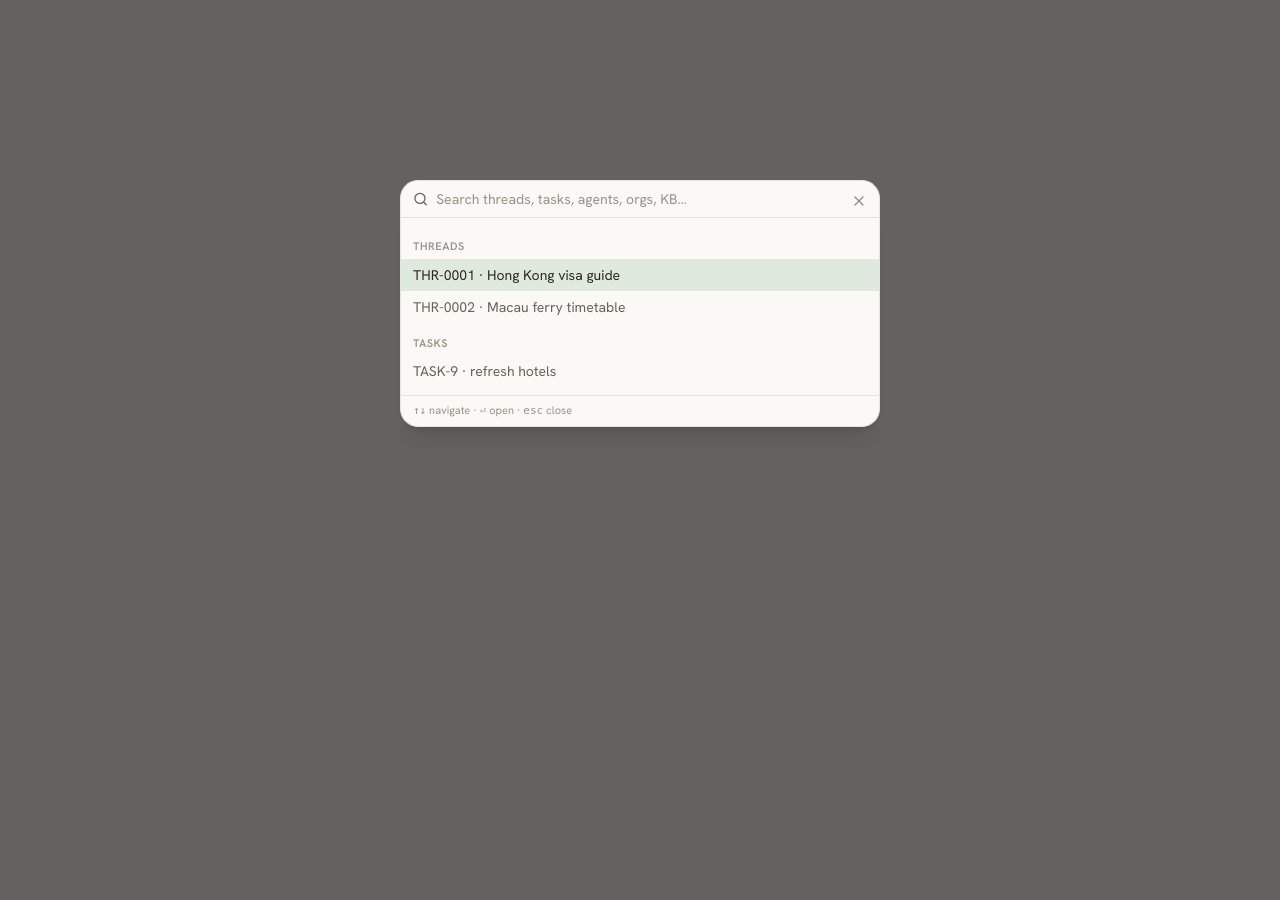
Test: CommandPalette › filters via substring match across primary and secondary
Type "macau" into the dropdown with placeholder "Search threads, tasks, agents, orgs, KB…" at coordinates (652, 199), box [436,189,867,209]
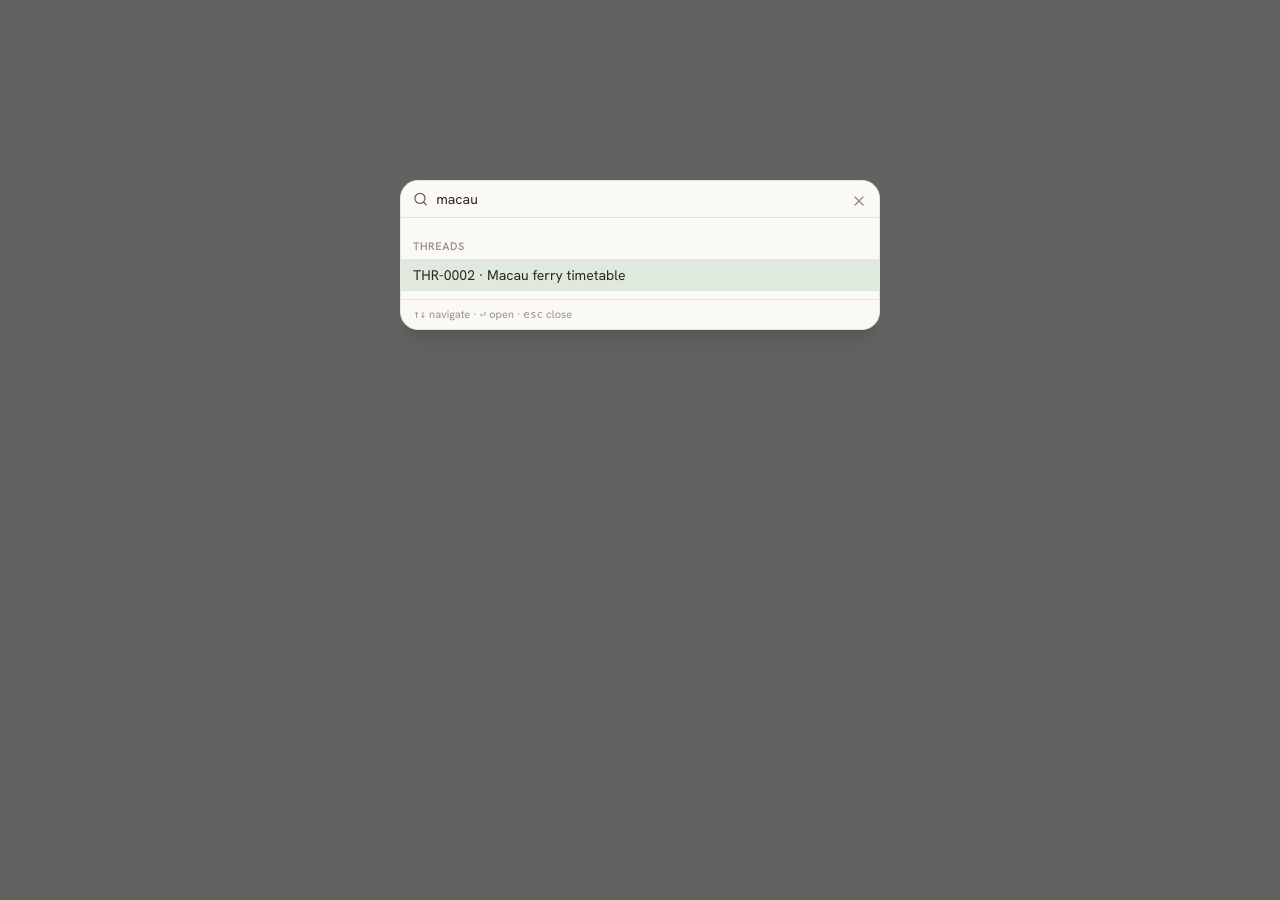
expect the text "THR-0002 · Macau ferry timetable" is shown: met, box [413,264,626,284]
expect the option "Hong Kong visa" is gone: met
expect the option "refresh hotels" is gone: met
